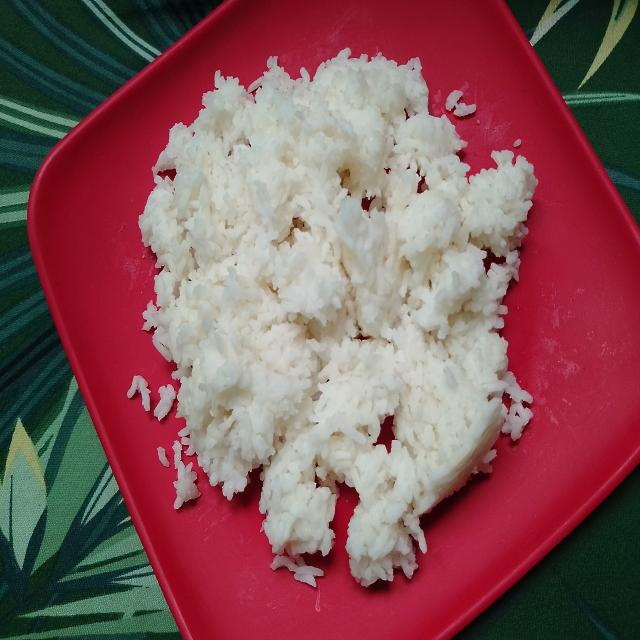Chicken -Chicken Inasal-: (132, 56, 527, 531)
